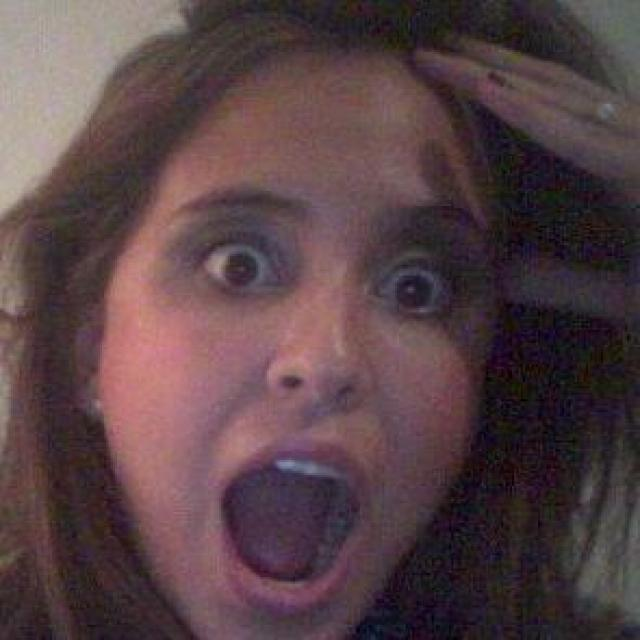surprised: (74, 124, 484, 620)
